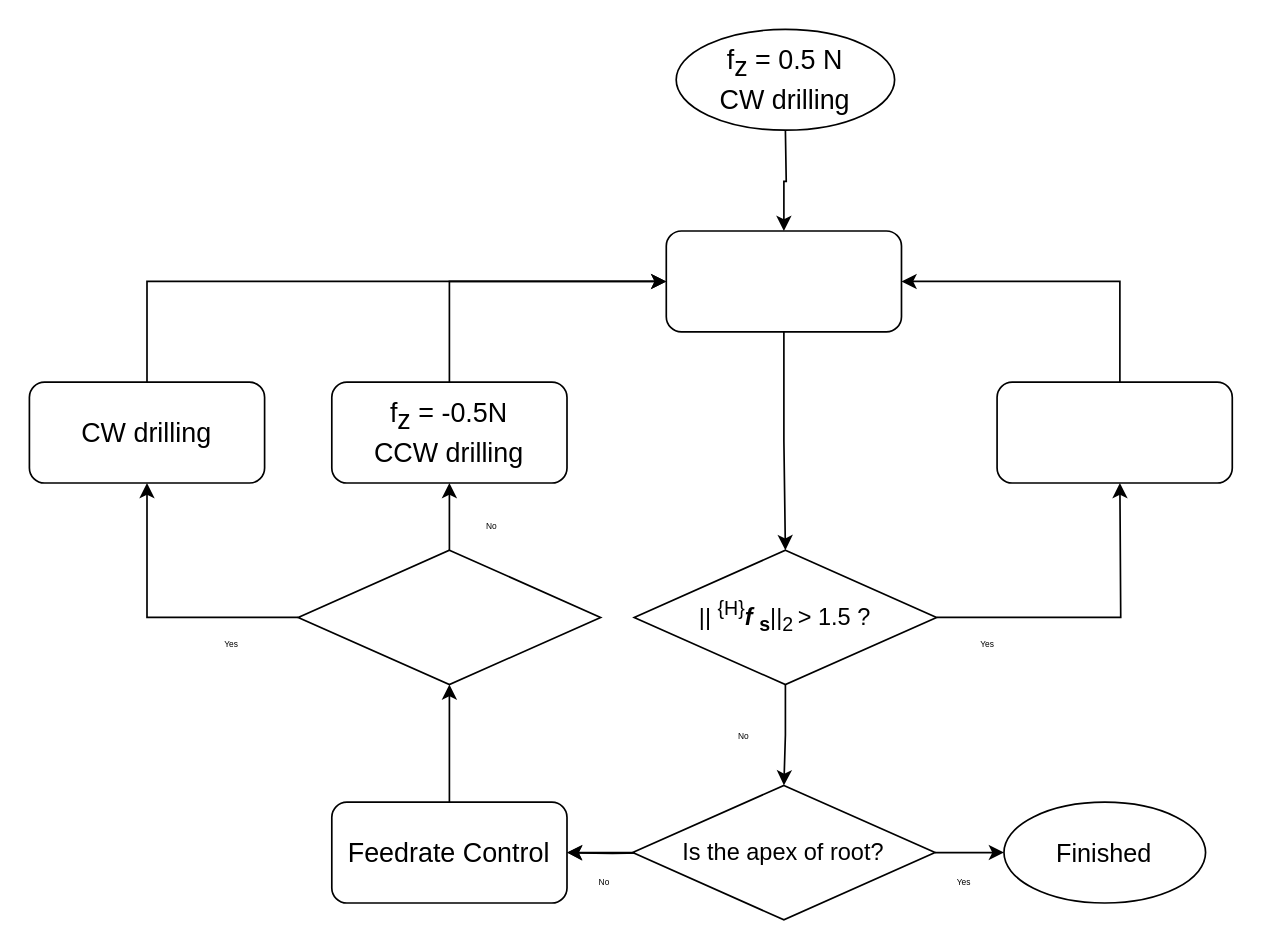
The diagram is 1262 pixels wide and 949 high, and some of its shapes have lost their labels. Each missing label, with the centre of its shape:
"Admittance Control f des = [0 0 f z 0 0 0 ]" goes at (x=783, y=280).
"f * z > -0.2 N for 3 seconds?" goes at (x=449, y=617).
"f z = 0 N Stop drilling" goes at (x=1113, y=432).
